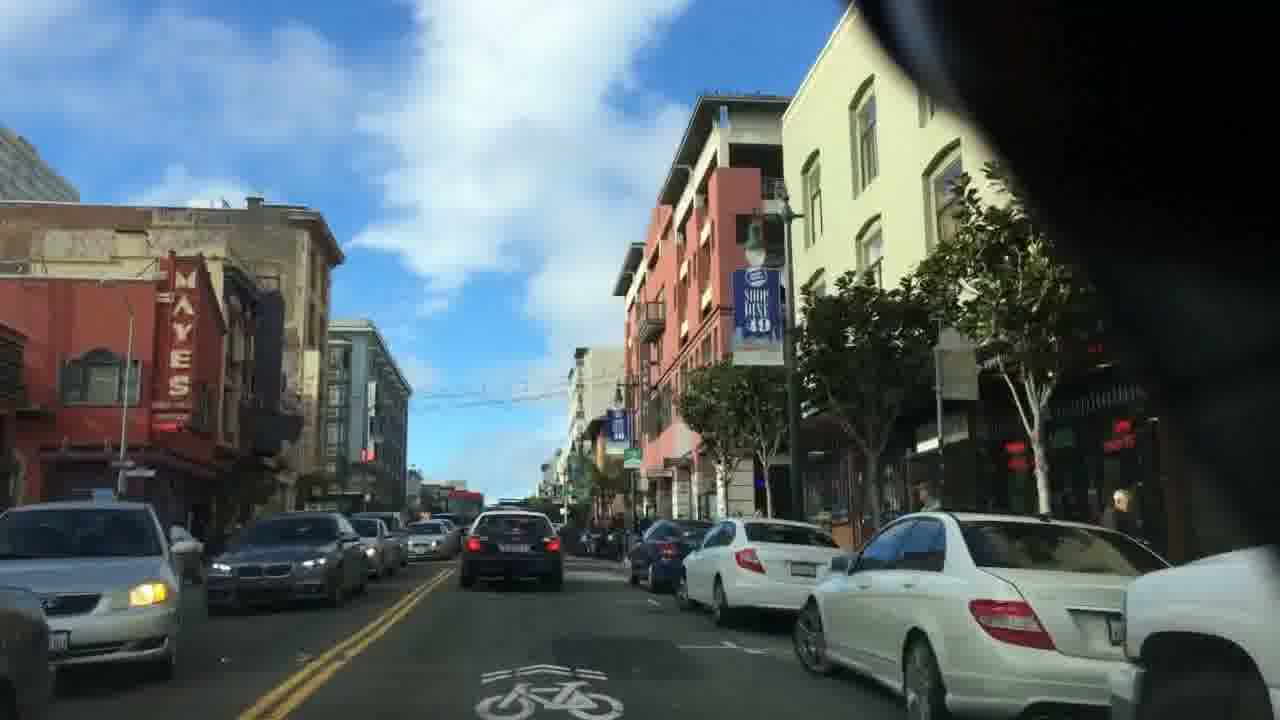car: (790, 509, 1176, 719), (0, 499, 204, 682), (674, 516, 850, 627), (202, 510, 370, 616), (459, 510, 562, 589), (624, 518, 716, 592), (404, 520, 452, 561)
